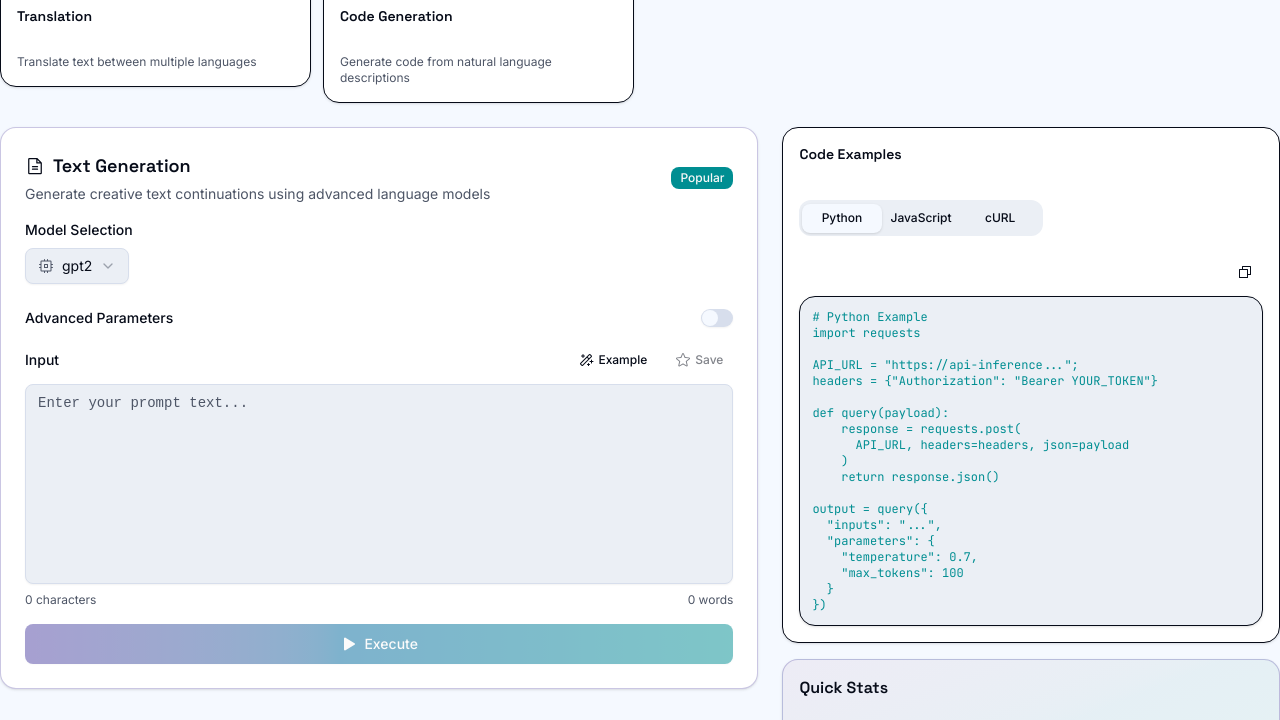
ApiPlayground › Input Handling › should load example on Load Example click
(page scrolled)
Click the button "Example". click: (613, 360)
box: [568, 344, 657, 376]
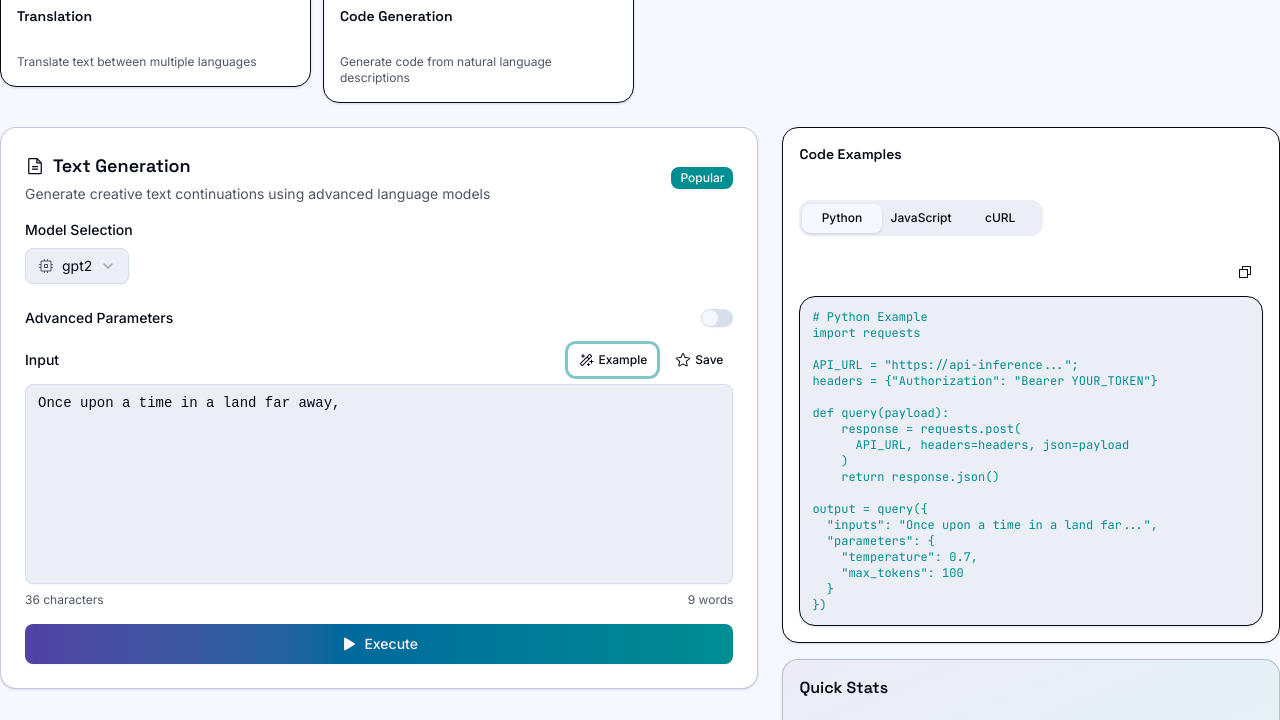
Result: the text box with placeholder "Enter your prompt text..." is not empty at [25, 384, 733, 584]
